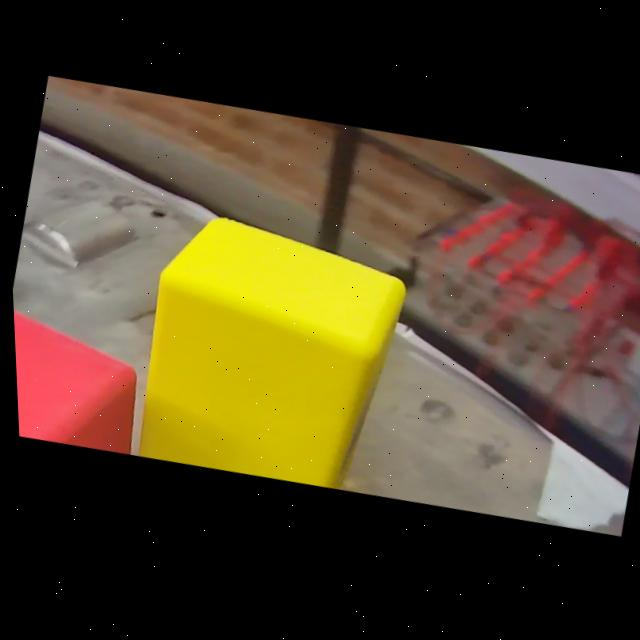redBox: (10, 274, 162, 459)
yellowBox: (113, 196, 424, 507)
